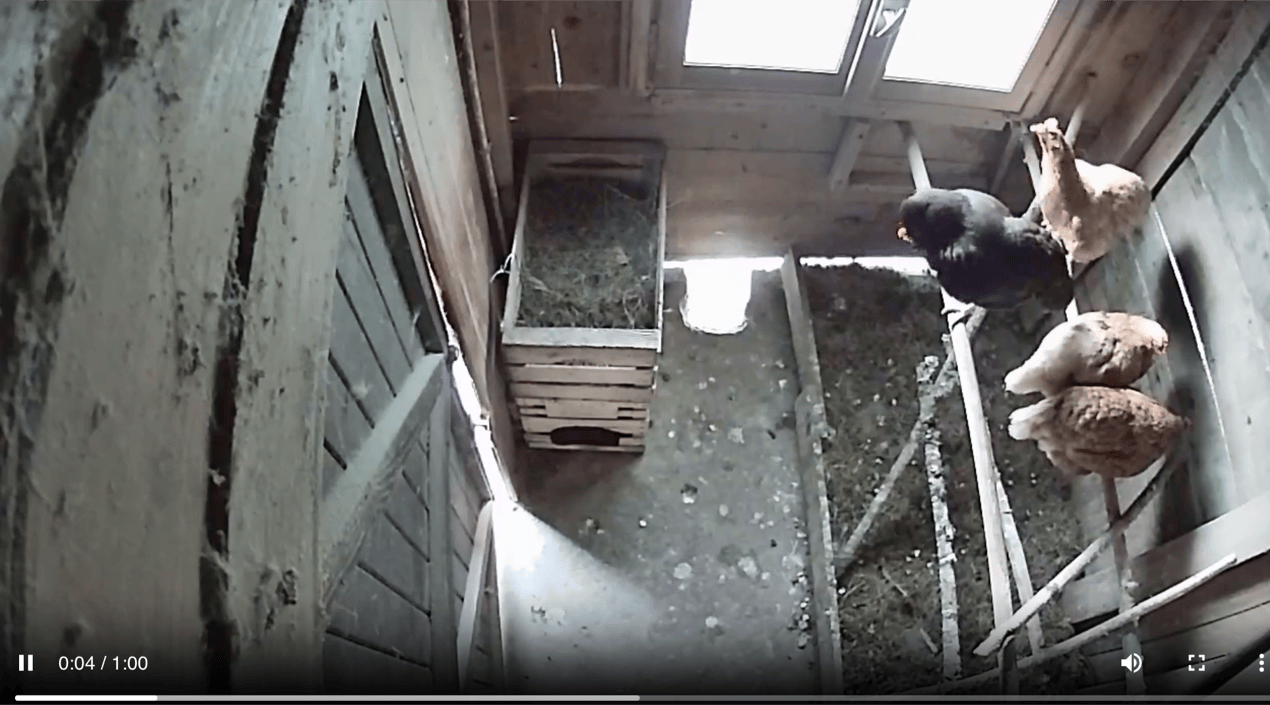chicken: (872, 174, 1083, 320), (1010, 106, 1158, 271), (996, 383, 1213, 482), (996, 301, 1181, 408)
